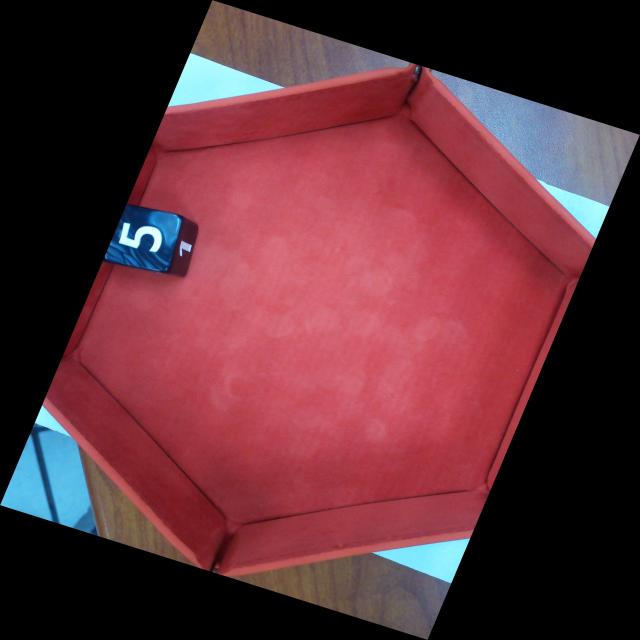dice: (103, 203, 184, 276)
